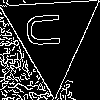U: (26, 10, 69, 50)
